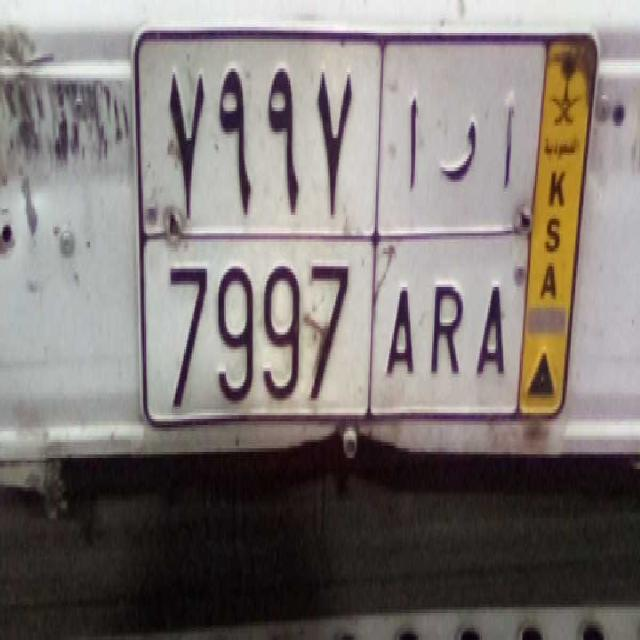license_plate: (140, 224, 524, 434)
